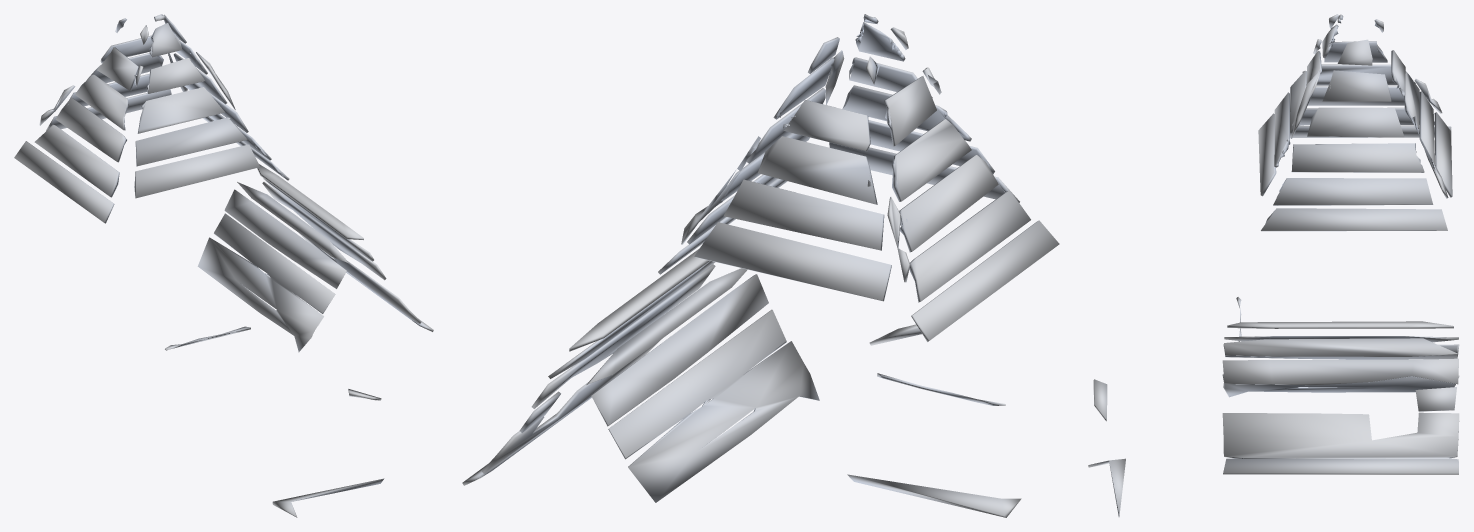
File: protocol.compound.snow.glb
The picture shows the model from 3 angles, left to right: view 1: azimuth 30°, elevation 25°; view 2: azimuth 150°, elevation 25°; view 3: azimuth 270°, elevation 25°; orthographic projection. The views are drawn at different scales.
Parts seen in each view (by area): view 1: building.protocol.compound.snow.mesh; view 2: building.protocol.compound.snow.mesh; view 3: building.protocol.compound.snow.mesh.
Part boxes in pixels (x1,y1,x2,y2): building.protocol.compound.snow.mesh: (14,14,433,517); building.protocol.compound.snow.mesh: (462,14,1059,517); building.protocol.compound.snow.mesh: (1088,14,1459,516).
Bounding box in the file's own units: 8.71 × 11.21 × 8.53.
